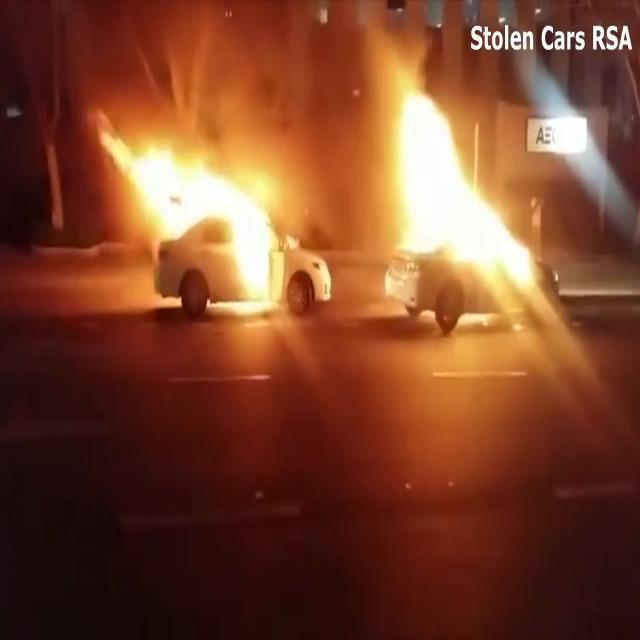fire: (115, 107, 286, 310), (388, 91, 534, 300)
